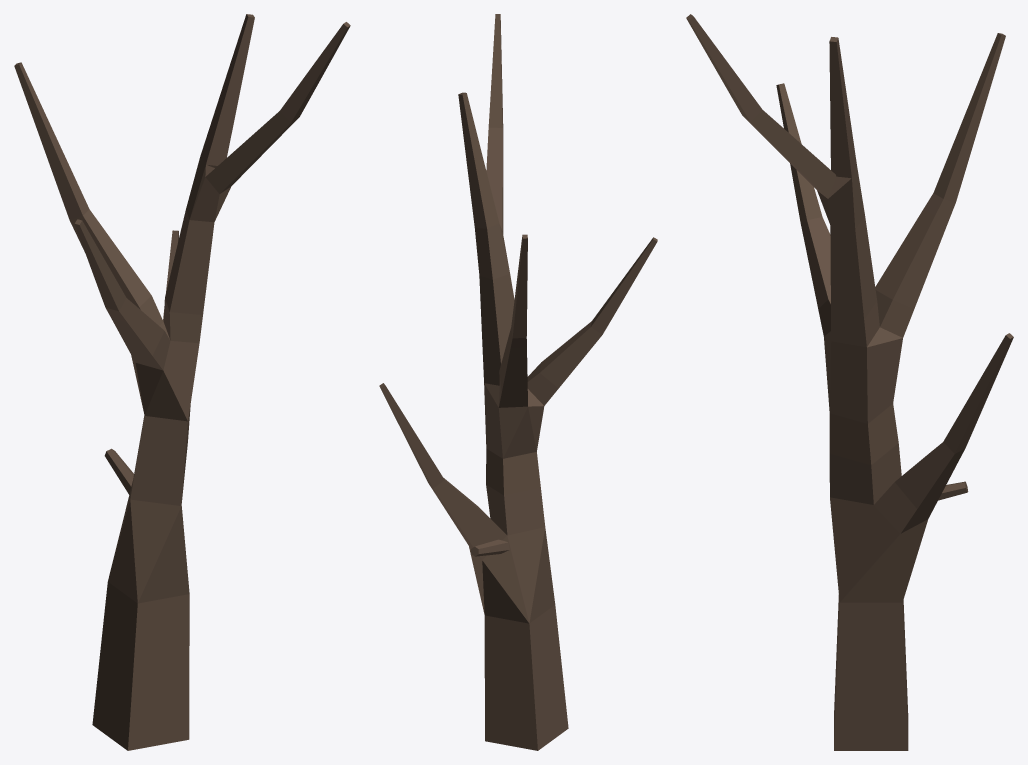
Rendered from tree_dead.glb.
The picture shows the model from 3 angles, left to right: view 1: azimuth 30°, elevation 25°; view 2: azimuth 150°, elevation 25°; view 3: azimuth 270°, elevation 25°; orthographic projection. The views are drawn at different scales.
Visible parts, largest first — view 1: tree_dead; view 2: tree_dead; view 3: tree_dead.
Part boxes in pixels (box(x1,y1,x2,y2)): tree_dead: box(14, 14, 350, 750); tree_dead: box(379, 14, 657, 750); tree_dead: box(686, 14, 1013, 750).
Size of the model in its own units: 2.26 by 6.96 by 2.65.
